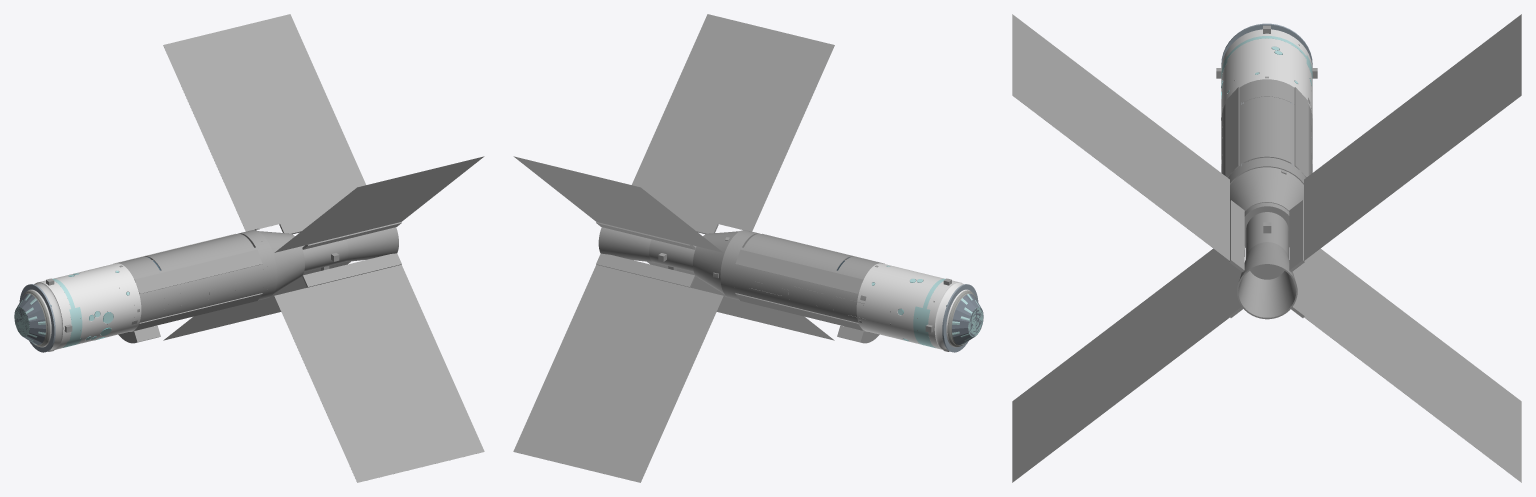
Rendered from wayfarer_parts_v253_88ce19fc_closed.glb.
The picture shows the model from 3 angles, left to right: view 1: azimuth 30°, elevation 25°; view 2: azimuth 150°, elevation 25°; view 3: azimuth 270°, elevation 25°; orthographic projection. The views are drawn at different scales.
Parts seen in each view (by area): view 1: dry:hotfin_220, dry:hotfin_40, dry:hotfin_140, dry:armor, dry:skin_midship, dry:hotfin_320, dry:strake_140, dry:thrust_cone, dry:skin_service, dry:door_port, dry:hotfin_root_220, dry:nozzle (+4 smaller); view 2: dry:hotfin_320, dry:hotfin_140, dry:hotfin_40, dry:armor, dry:skin_midship, dry:hotfin_220, dry:strake_40, dry:skin_service, dry:thrust_cone, dry:door_starboard, dry:hotfin_root_320, dry:nozzle (+4 smaller); view 3: dry:hotfin_140, dry:hotfin_40, dry:hotfin_220, dry:hotfin_320, dry:armor, dry:nozzle, dry:thrust_cone, dry:reactor, dry:door_port, dry:door_starboard, dry:skin_service, dry:strake_40 (+7 smaller).
Part boxes in pixels (x1,y1,x2,y2): dry:hotfin_220: (274, 264, 484, 482); dry:hotfin_40: (163, 14, 365, 231); dry:hotfin_140: (274, 156, 484, 252); dry:armor: (23, 263, 141, 350); dry:skin_midship: (160, 247, 263, 316); dry:hotfin_320: (163, 261, 350, 340); dry:strake_140: (134, 249, 262, 293); dry:thrust_cone: (258, 231, 304, 293); dry:skin_service: (117, 256, 168, 330); dry:door_port: (152, 236, 253, 270); dry:hotfin_root_220: (302, 253, 401, 287); dry:nozzle: (345, 227, 398, 261); dry:hotfin_320: (513, 264, 723, 482); dry:hotfin_140: (632, 14, 834, 231); dry:hotfin_40: (513, 156, 723, 252); dry:armor: (856, 263, 974, 350); dry:skin_midship: (734, 247, 837, 316); dry:hotfin_220: (647, 261, 834, 340); dry:strake_40: (735, 249, 863, 293); dry:skin_service: (829, 256, 880, 330); dry:thrust_cone: (693, 231, 739, 293); dry:door_starboard: (744, 236, 845, 270); dry:hotfin_root_320: (596, 253, 695, 287); dry:nozzle: (598, 227, 652, 262); dry:hotfin_140: (1012, 14, 1229, 260); dry:hotfin_40: (1304, 14, 1521, 260); dry:hotfin_220: (1012, 248, 1229, 482); dry:hotfin_320: (1304, 248, 1521, 482); dry:armor: (1221, 29, 1312, 117); dry:nozzle: (1237, 242, 1297, 319); dry:thrust_cone: (1230, 167, 1303, 247); dry:reactor: (1245, 212, 1288, 279); dry:door_port: (1242, 97, 1266, 163); dry:door_starboard: (1267, 97, 1291, 163); dry:skin_service: (1221, 79, 1312, 135); dry:strake_40: (1294, 87, 1308, 177).
Size of the model in its own units: 54.5 by 42.11 by 50.18.
